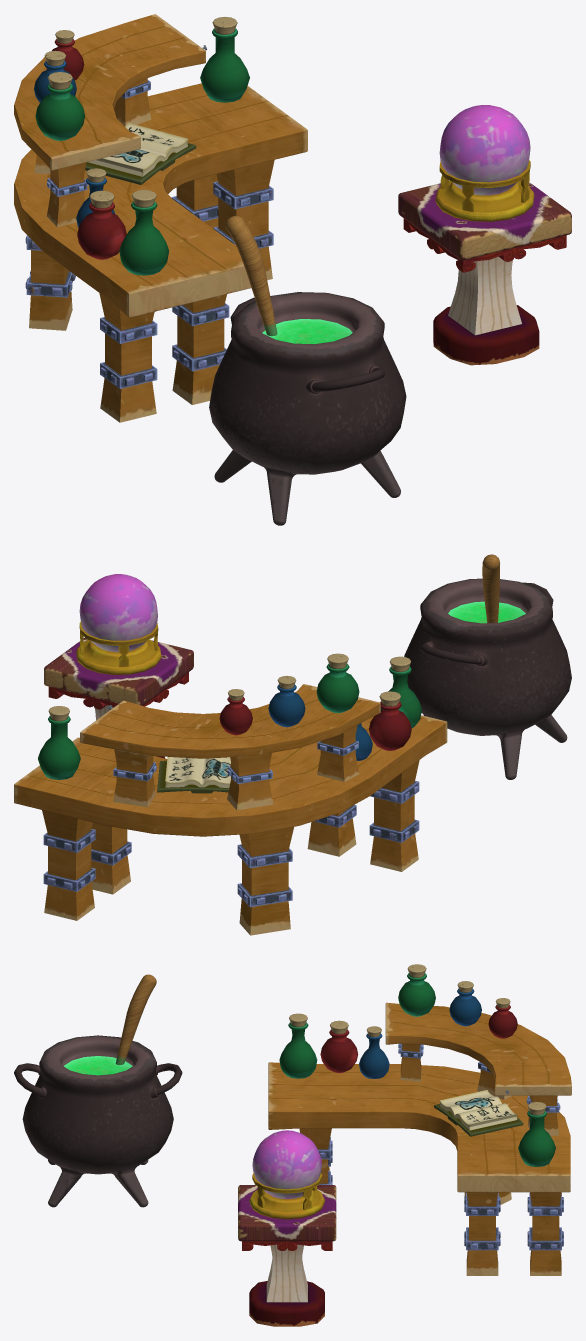
File: PRP_PotionTable.glb
3 views of the same model, one above another, from view 1: azimuth 30°, elevation 25°; view 2: azimuth 150°, elevation 25°; view 3: azimuth 270°, elevation 25° (orthographic). The views are drawn at different scales.
Visible parts, largest first — view 1: AlchemyTable, Cauldron, CrystalBallTable, CrystalBall, CrystalBallStand, Book, TallPotion1, TallPotion3, Potion1, Potion4, Potion2, Potion3 (+1 smaller); view 2: AlchemyTable, Cauldron, CrystalBallTable, CrystalBall, CrystalBallStand, Book, TallPotion3, Potion1, Potion4, Potion2, TallPotion1, Potion3; view 3: AlchemyTable, Cauldron, CrystalBallTable, CrystalBall, Book, CrystalBallStand, TallPotion1, TallPotion3, Potion1, Potion4, TallPotion2, Potion2 (+1 smaller).
Part boxes in pixels (x1,y1,x2,y2): AlchemyTable: (14,14,307,422); Cauldron: (209,215,406,525); CrystalBallTable: (398,182,571,365); CrystalBall: (439,105,530,195); CrystalBallStand: (435,160,534,221); Book: (85,123,196,184); TallPotion1: (119,189,168,275); TallPotion3: (200,17,249,102); Potion1: (35,72,84,140); Potion4: (77,190,126,259); Potion2: (34,50,76,102); Potion3: (46,30,84,80); AlchemyTable: (14,684,447,935); Cauldron: (404,554,571,779); CrystalBallTable: (44,637,193,758); CrystalBall: (79,574,157,652); CrystalBallStand: (76,621,161,674); Book: (157,757,230,793); TallPotion3: (38,706,80,779); Potion1: (316,653,359,713); Potion4: (369,691,411,750); Potion2: (268,676,305,727); TallPotion1: (380,656,421,727); Potion3: (219,689,252,735); AlchemyTable: (268,1002,571,1275); Cauldron: (14,974,182,1207); CrystalBallTable: (238,1185,336,1326); CrystalBall: (252,1130,321,1199); Book: (434,1090,523,1136); CrystalBallStand: (249,1173,324,1219); TallPotion1: (279,1013,317,1078); TallPotion3: (518,1102,555,1166); Potion1: (398,964,435,1016); Potion4: (320,1020,358,1073); TallPotion2: (359,1026,389,1078); Potion2: (449,981,481,1026).
Bounding box in the file's own units: 10.3 × 6.34 × 14.76.
3 materials, 3 textured.
